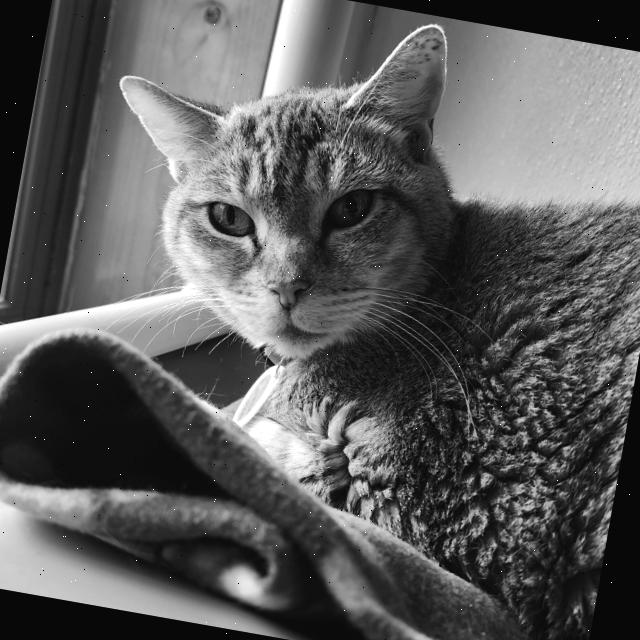american_shorthair_cat: (69, 0, 491, 400)
